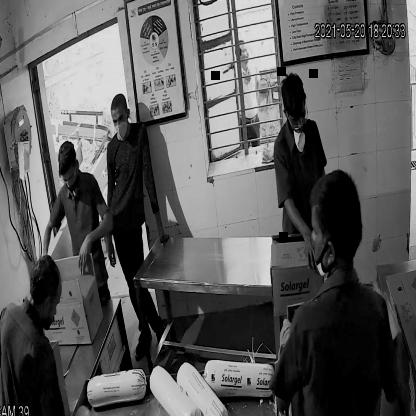goggles: (280, 103, 309, 129)
no_goggles: (112, 112, 127, 125)
